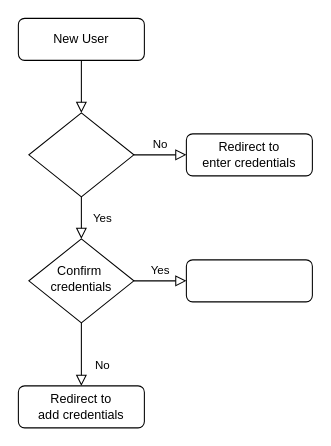
Image size: 331x446. Some labels were removed from this diagram. The box of each missing label's shape, as (x1, y1, x2, y2) in pixels:
Create account: (185, 259, 312, 302)
User Enters Credentials: (28, 112, 134, 197)
